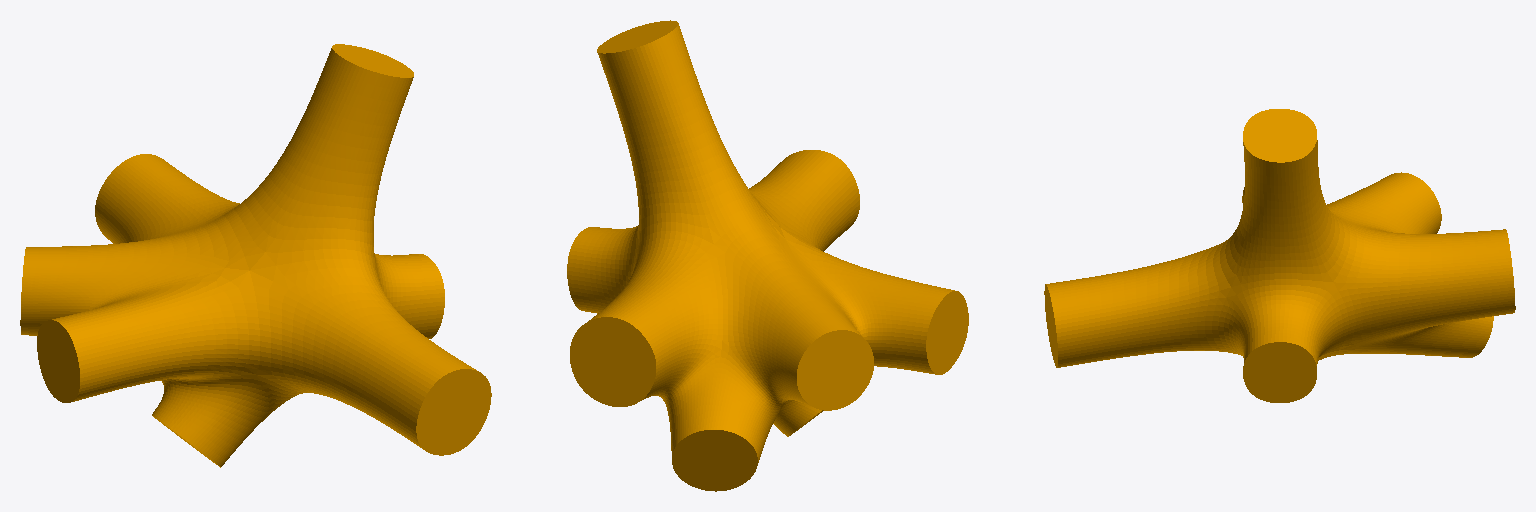
The robot description file, URDF, robot "object":
<robot name="object">
  <link name="object">
    <visual>
      <origin xyz="0 0 0"/>
      <geometry>
        <mesh filename="visual.obj" scale="1 1 1"/>
      </geometry>
    </visual>
    <collision>
      <origin xyz="0 0 0"/>
      <geometry>
        <mesh filename="collision.obj" scale="1 1 1"/>
      </geometry>
    </collision>
    <inertial>
      <mass value="0.05"/>
      <inertia ixx="1.942130081422374e-05" iyy="1.4953955611075338e-05" izz="2.3139454660793538e-05" ixy="3.7015662961358213e-06" ixz="-2.4790730109088425e-06" iyz="6.751048403757119e-07"/>
    </inertial>
  </link>
</robot>

--- Render facts (derived) ---
The picture shows the robot from 3 angles, left to right: view 1: azimuth 30°, elevation 25°; view 2: azimuth 150°, elevation 25°; view 3: azimuth 270°, elevation 25°; orthographic projection.
Robot: object — 1 links, 0 joints (none); root link object; default pose: every joint at zero.
Links seen in each view (by area): view 1: object; view 2: object; view 3: object.
Link boxes in pixels (x1,y1,x2,y2): object: (20,44,491,467); object: (567,20,968,491); object: (1044,109,1515,402).
Size in the robot's own frame: 0.069 by 0.0871 by 0.067 metres.
Meshes: 1 distinct files referenced, 1 mesh visuals loaded (1 OBJ).
